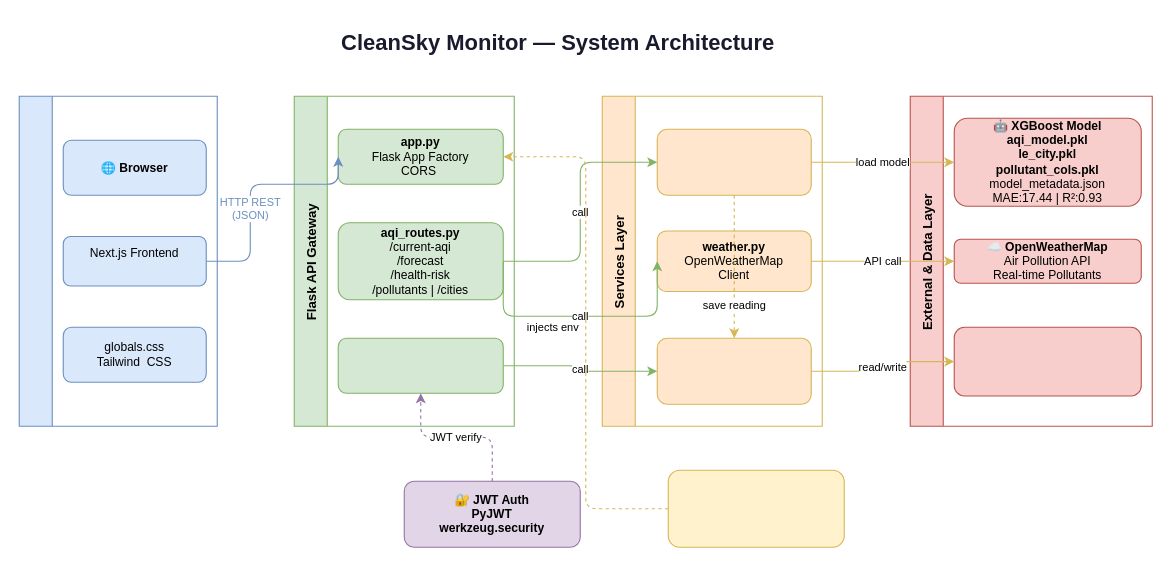
Image size: 1172x567. Some labels were removed from this diagram. Here are the shapes that lost their labels. From the top down, the box of each, then its label:
(656, 128, 811, 195): prediction.py Feature Engineering predict_aqi() predict_forecast()
(18, 95, 217, 426): Client Layer
(337, 337, 503, 393): user_routes.py /register | /login /preferences | /alerts
(656, 337, 811, 404): database.py MongoDB Data Layer Users | AQI | Forecasts Alerts | Models
(953, 326, 1141, 396): 🍃 MongoDB Atlas cleansky_db aqi_data | forecasts users | alerts | models
(667, 469, 844, 547): ⚙️ .env MONGODB_URI OPENWEATHER_API_KEY JWT_SECRET | PORT
